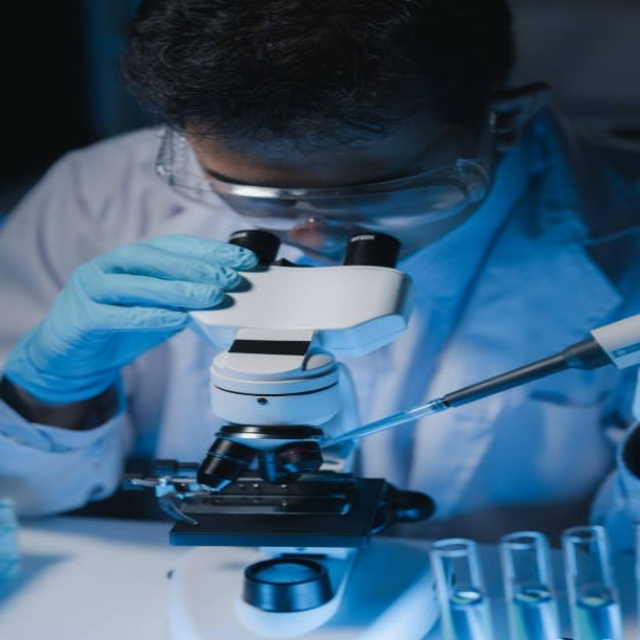Gafas: (157, 97, 514, 242)
Guantes: (1, 234, 260, 408)
